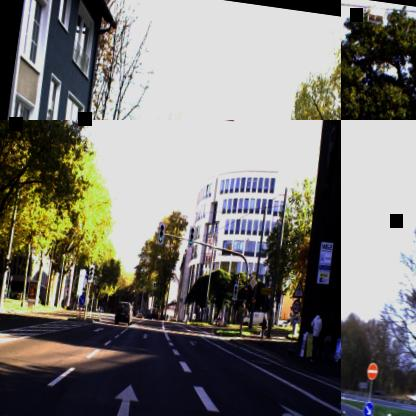NO ENTRY: (365, 362, 379, 380)
PEDESTRIAN CROSSING: (291, 278, 306, 300)
keep right: (362, 400, 375, 416), (77, 294, 85, 306)
priority road: (248, 275, 258, 289)
speed limit 20: (290, 298, 302, 315)
